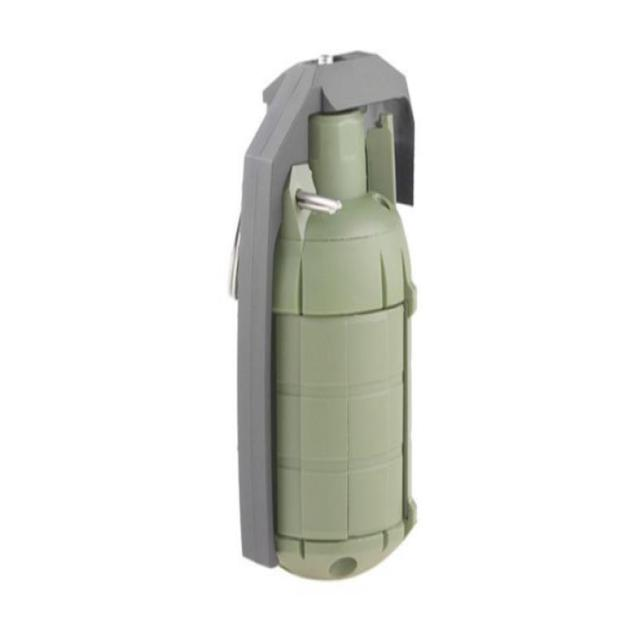grenade: (229, 54, 420, 583)
